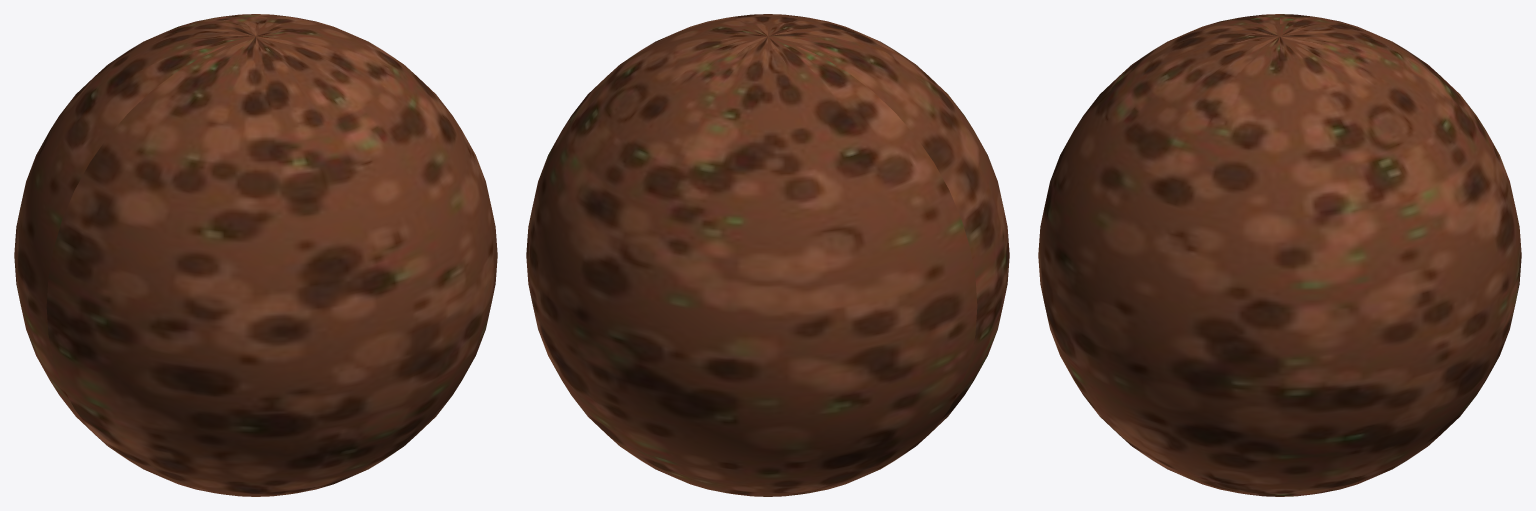
The model's file is bay_haz.glb.
The picture shows the model from 3 angles, left to right: view 1: azimuth 30°, elevation 25°; view 2: azimuth 150°, elevation 25°; view 3: azimuth 270°, elevation 25°; orthographic projection.
Visible parts, largest first — view 1: roller; view 2: roller; view 3: roller.
Part boxes in pixels (x1,y1,x2,y2): roller: (14, 14, 497, 496); roller: (526, 14, 1009, 496); roller: (1038, 14, 1521, 496).
Size of the model in its own units: 16 by 16 by 16.
Materials: 10 (1 with a texture image).
